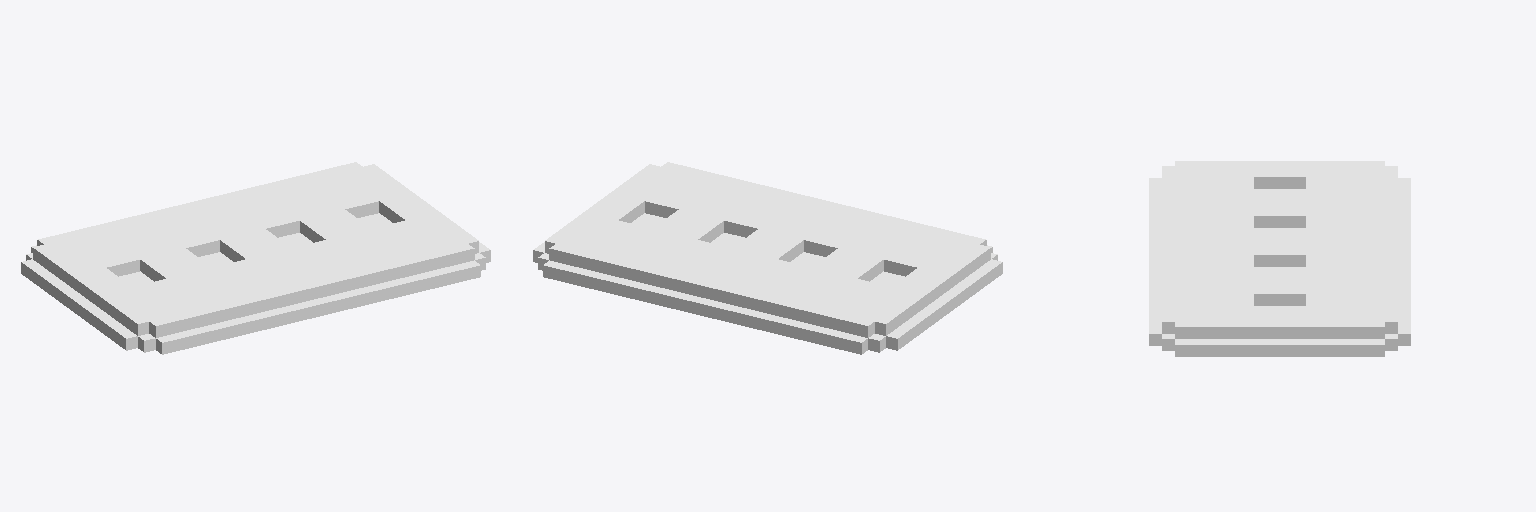
File: Tilemap_IronPillar_PartA.obj
The picture shows the model from 3 angles: view 1: azimuth 30°, elevation 25°; view 2: azimuth 150°, elevation 25°; view 3: azimuth 270°, elevation 25°; orthographic projection.
Visible parts, largest first — view 1: object 1; view 2: object 1; view 3: object 1.
Boxes of the visible parts, x1=… form: object 1: x1=21, y1=162, x2=490, y2=354; object 1: x1=533, y1=162, x2=1002, y2=354; object 1: x1=1149, y1=161, x2=1410, y2=356.
Bounding box in the file's own units: 3.2 × 0.2 × 2.